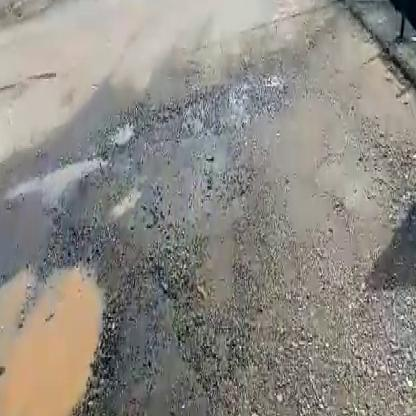pothole: (0, 258, 108, 416)
